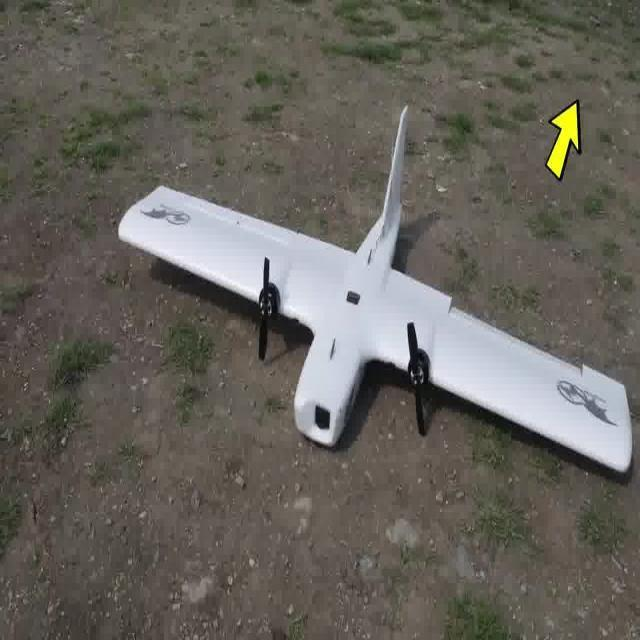iha: (118, 99, 631, 521)
